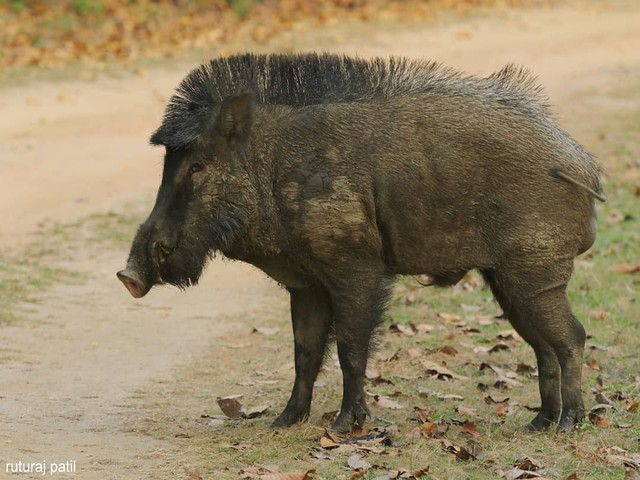Pig: (118, 54, 615, 440)
